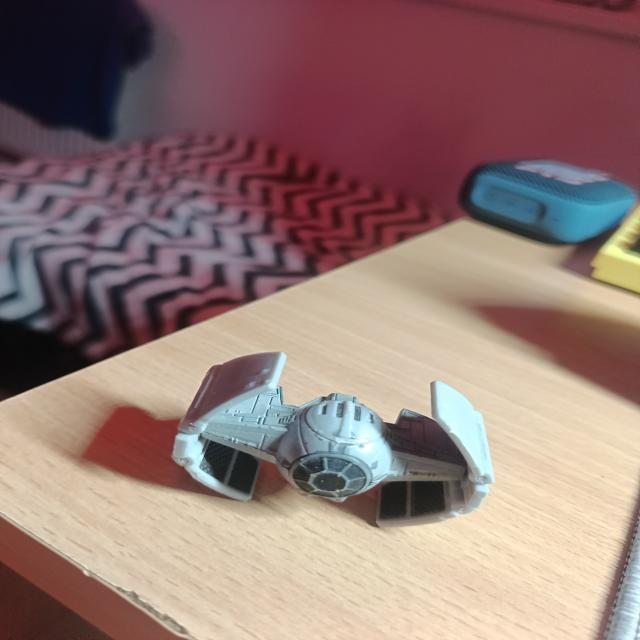tie fighter: (172, 350, 496, 530)
